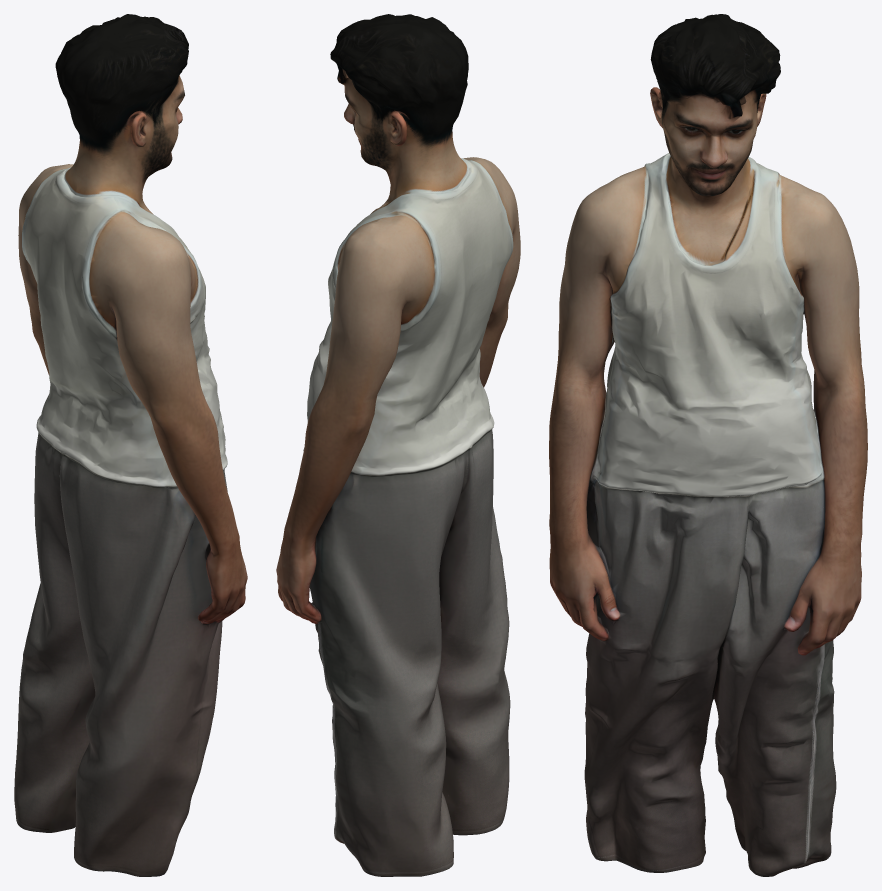
File: av_1aeb6d2c6279.glb
The picture shows the model from 3 angles, left to right: view 1: azimuth 30°, elevation 25°; view 2: azimuth 150°, elevation 25°; view 3: azimuth 270°, elevation 25°; orthographic projection. The views are drawn at different scales.
Visible parts, largest first — view 1: tripo_node_4c49c280-0998-4db2-b80a-a3de387439b6; view 2: tripo_node_4c49c280-0998-4db2-b80a-a3de387439b6; view 3: tripo_node_4c49c280-0998-4db2-b80a-a3de387439b6.
Part boxes in pixels (left/top/right/bottom): tripo_node_4c49c280-0998-4db2-b80a-a3de387439b6: left=14, top=14, right=247, bottom=876; tripo_node_4c49c280-0998-4db2-b80a-a3de387439b6: left=276, top=14, right=520, bottom=876; tripo_node_4c49c280-0998-4db2-b80a-a3de387439b6: left=549, top=14, right=867, bottom=876.
Bounding box in the file's own units: 0.3587 × 1.75 × 0.5977.
1 material, 1 textured.
